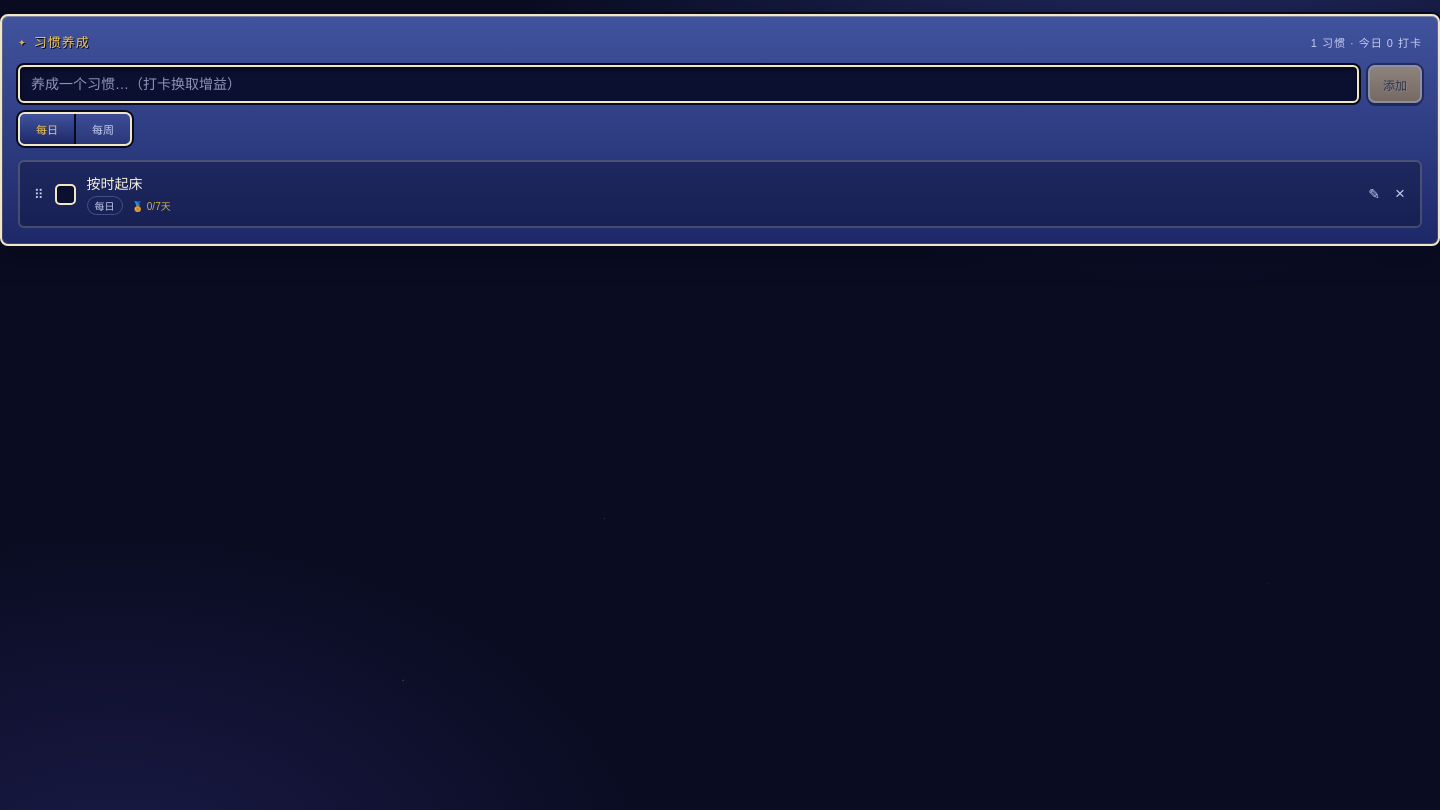
Scenario: HabitPanel + BuffChoiceModal › checking a daily habit offers a buff draft; picking one applies it and closes the modal
Check: the text "按时起床" is shown, box [86,176,142,192]
Check: the text "每日" is shown, box [86,196,122,215]
Step 1. Click the button named "打卡" → (65, 194), box [54,184,76,204]
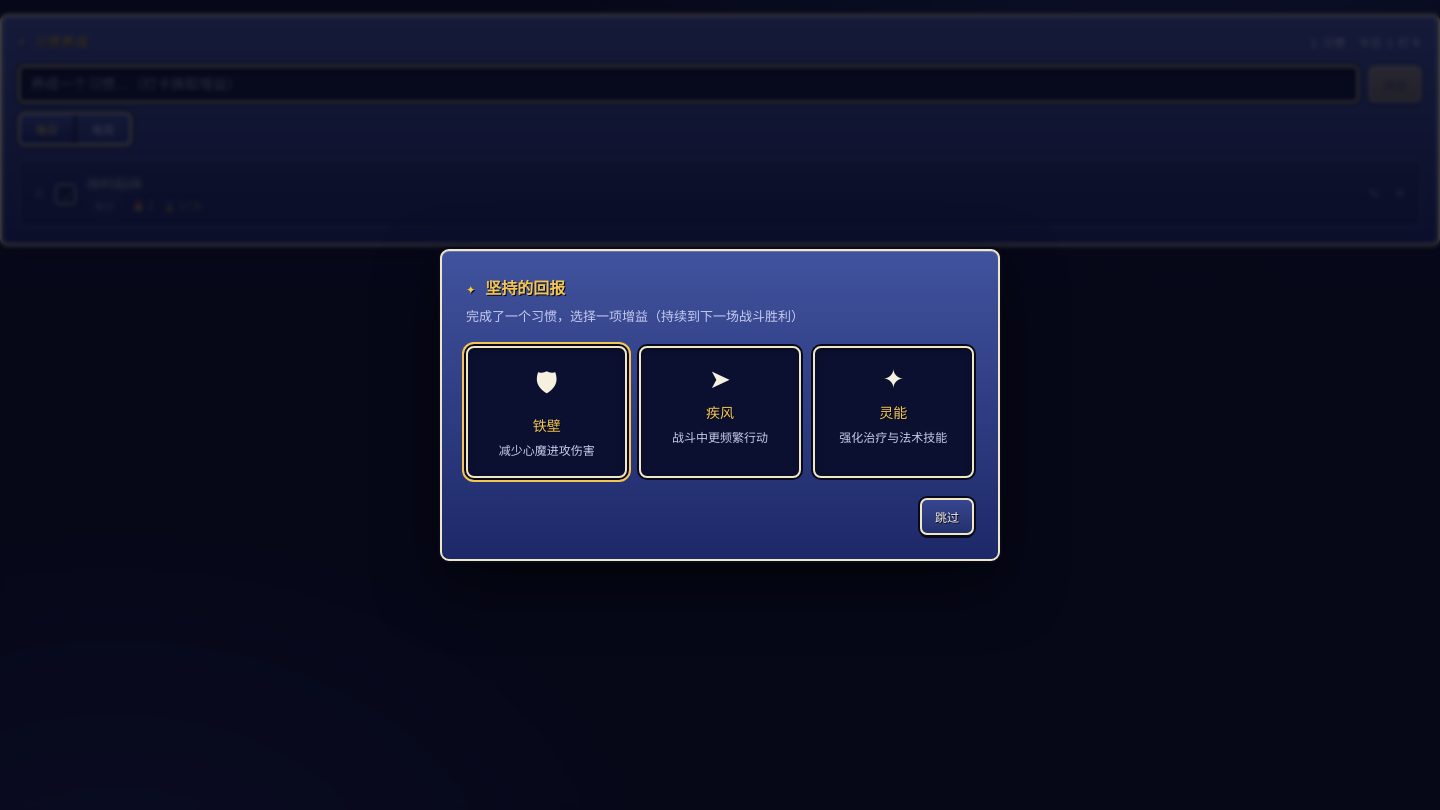
Check: the heading "✦ 坚持的回报" is shown, box [466,279,565,298]
Step 2. Click the button "🛡 铁壁 减少心魔进攻伤害" → (547, 412), box [466,346,627,478]
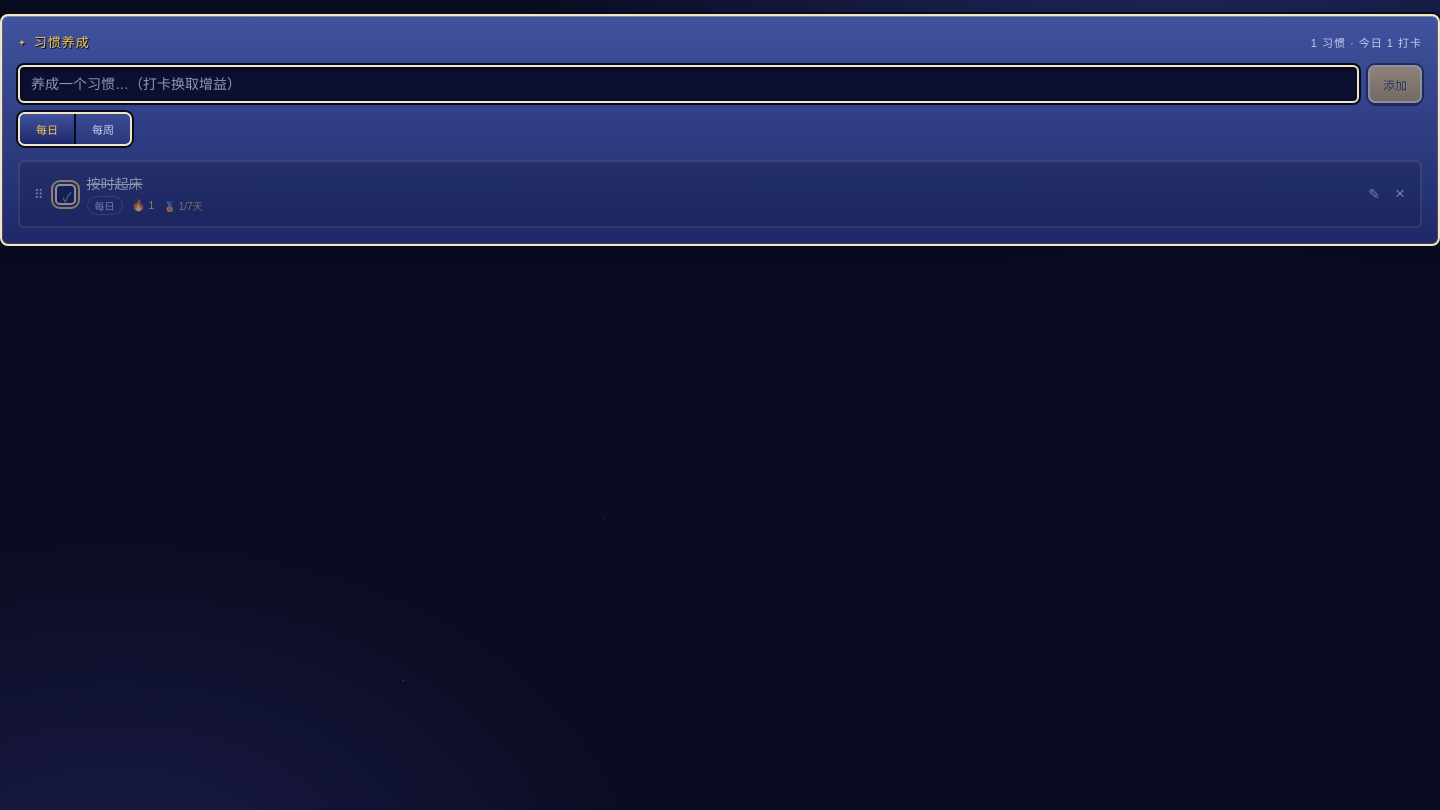
Check: the heading "坚持的回报" is gone
